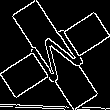M_SE: (22, 21, 88, 89)
